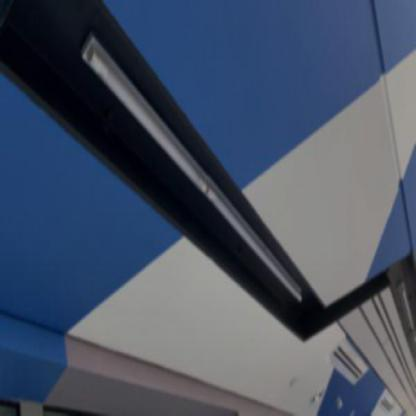light_off: (77, 32, 309, 320)
